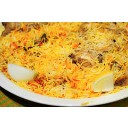briyani: (1, 20, 128, 90)
